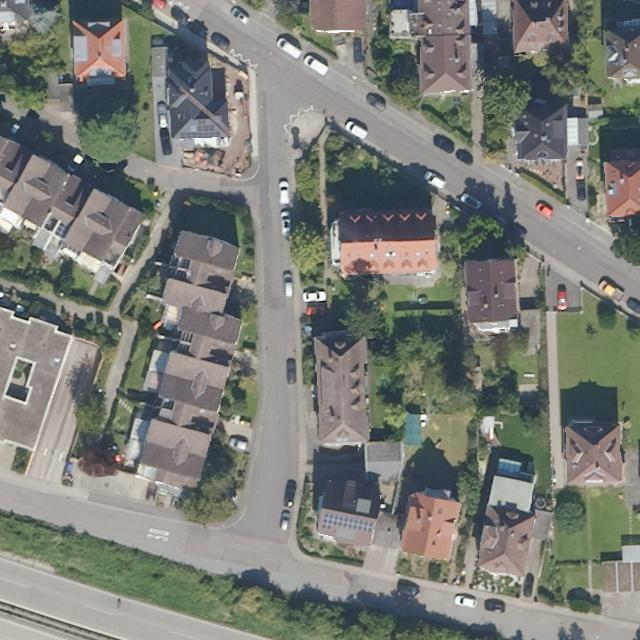PV: (320, 511, 375, 535), (179, 119, 222, 140)
